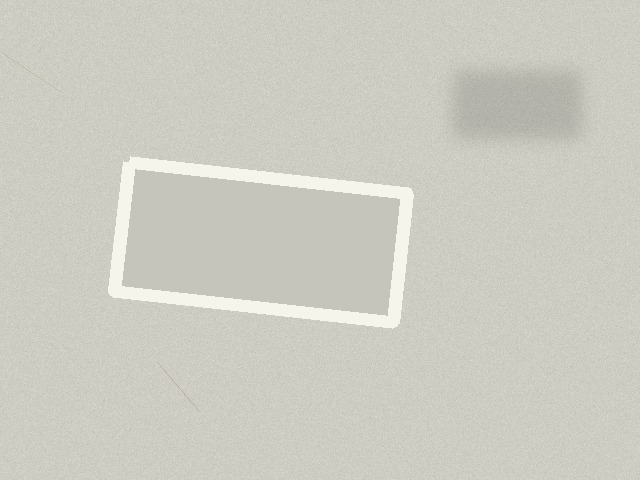parking_area: (114, 162, 407, 322)
